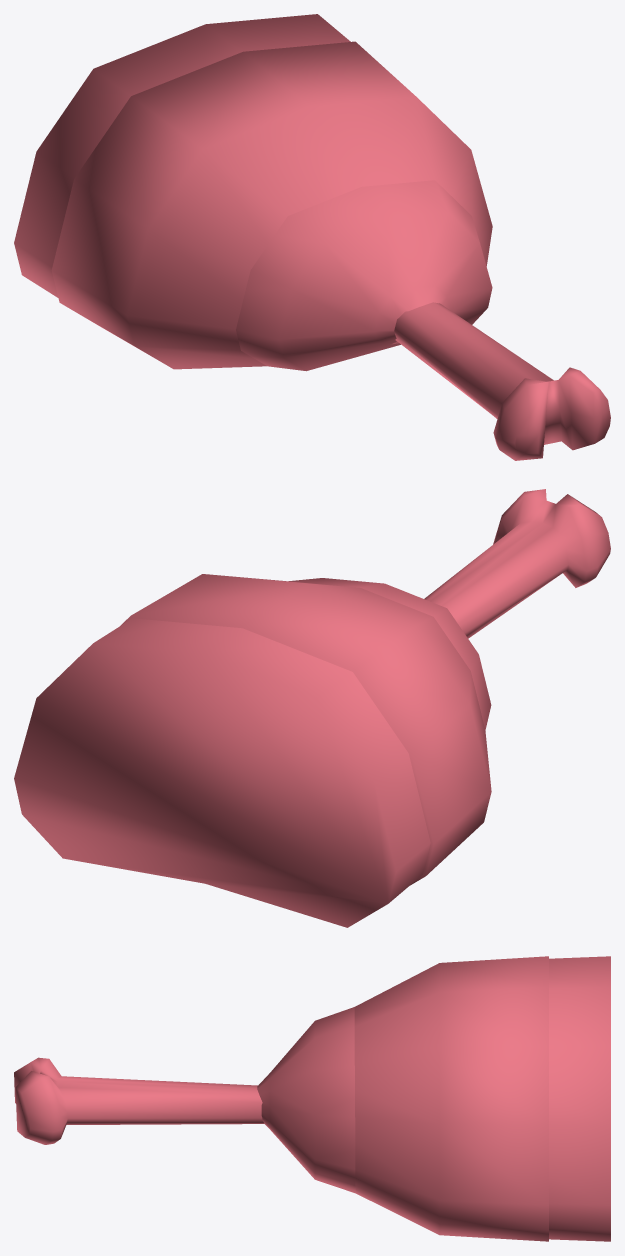
The model's file is Ham.fbx.
The picture shows the model from 3 angles, top to bottom: view 1: azimuth 30°, elevation 25°; view 2: azimuth 150°, elevation 25°; view 3: azimuth 270°, elevation 25°; orthographic projection. The views are drawn at different scales.
Parts seen in each view (by area): view 1: Ham3/4, Ham2/4, Ham4/4, Ham; view 2: Ham4/4, Ham3/4, Ham, Ham2/4; view 3: Ham3/4, Ham4/4, Ham, Ham2/4.
Boxes of the visible parts, bbox=[...] form: Ham3/4: bbox=[51, 41, 492, 369]; Ham2/4: bbox=[236, 180, 492, 371]; Ham4/4: bbox=[14, 14, 350, 297]; Ham: bbox=[394, 302, 610, 460]; Ham4/4: bbox=[14, 618, 430, 927]; Ham3/4: bbox=[120, 574, 491, 885]; Ham: bbox=[424, 489, 610, 638]; Ham2/4: bbox=[289, 578, 491, 730]; Ham3/4: bbox=[354, 956, 548, 1241]; Ham4/4: bbox=[439, 956, 610, 1241]; Ham: bbox=[14, 1057, 264, 1144]; Ham2/4: bbox=[257, 1007, 355, 1193].
Size of the model in its own units: 16.45 by 9.86 by 27.03.
